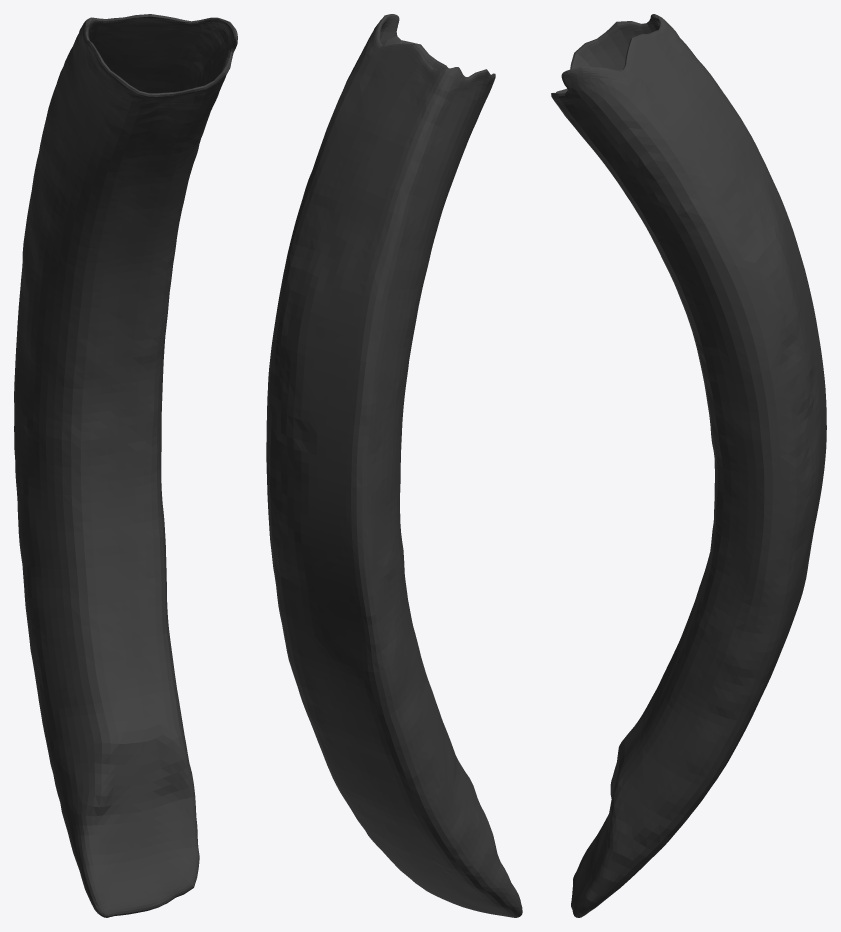
The model's file is tooth_rabbit_301_low.glb.
The picture shows the model from 3 angles, left to right: view 1: azimuth 30°, elevation 25°; view 2: azimuth 150°, elevation 25°; view 3: azimuth 270°, elevation 25°; orthographic projection.
Parts seen in each view (by area): view 1: tooth_rabbit_301_low; view 2: tooth_rabbit_301_low; view 3: tooth_rabbit_301_low.
Part boxes in pixels (x1=…): tooth_rabbit_301_low: x1=14, y1=14, x2=237, y2=917; tooth_rabbit_301_low: x1=266, y1=14, x2=522, y2=917; tooth_rabbit_301_low: x1=551, y1=14, x2=826, y2=917.
Size of the model in its own units: 0.4188 by 2.14 by 0.6068.
Materials: 1 (1 with a texture image).
